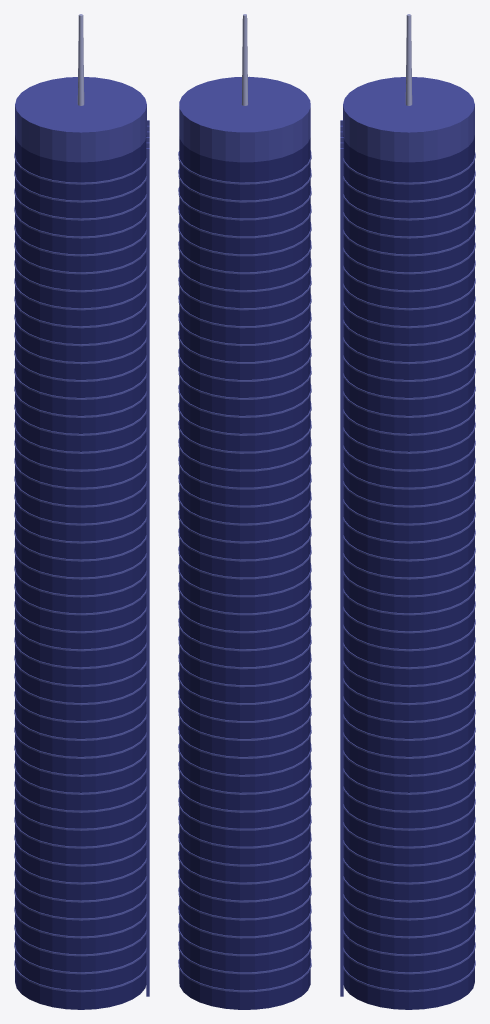
File: towerRound.glb
The picture shows the model from 3 angles, left to right: view 1: azimuth 90°, elevation 25°; view 2: azimuth 150°, elevation 25°; view 3: azimuth 270°, elevation 25°; orthographic projection.
Parts seen in each view (by area): view 1: baked0, baked1, baked2, baked3; view 2: baked0, baked1, baked2, baked3; view 3: baked0, baked1, baked2, baked3.
Part boxes in pixels (x1=…): baked0: x1=15, y1=135, x2=146, y2=1009; baked1: x1=14, y1=152, x2=146, y2=992; baked2: x1=15, y1=77, x2=149, y2=996; baked3: x1=77, y1=14, x2=84, y2=105; baked0: x1=179, y1=136, x2=310, y2=1009; baked1: x1=178, y1=150, x2=311, y2=992; baked2: x1=179, y1=76, x2=310, y2=162; baked3: x1=241, y1=14, x2=248, y2=105; baked0: x1=343, y1=135, x2=474, y2=1009; baked1: x1=343, y1=152, x2=475, y2=992; baked2: x1=340, y1=77, x2=474, y2=996; baked3: x1=405, y1=14, x2=412, y2=105.
Size of the model in its own units: 24.29 by 194 by 24.64.
